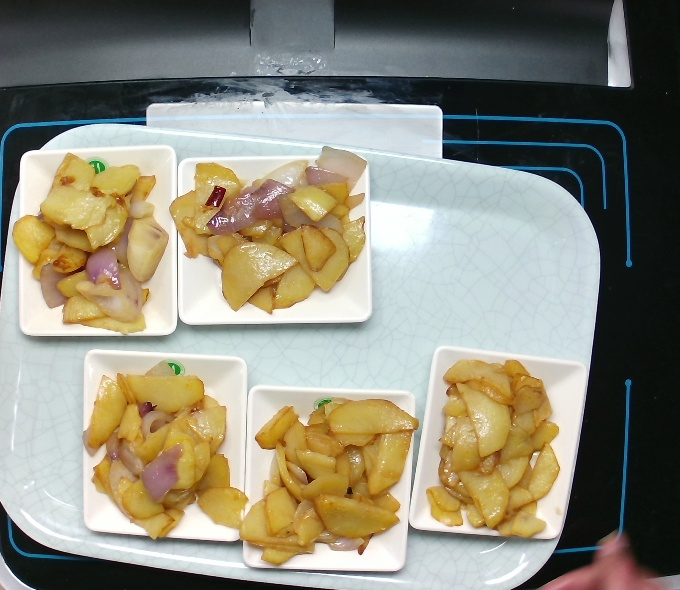wcq-TuDouPian: (170, 147, 369, 312), (237, 389, 414, 571), (8, 152, 171, 331), (80, 361, 245, 537), (419, 356, 563, 539)
